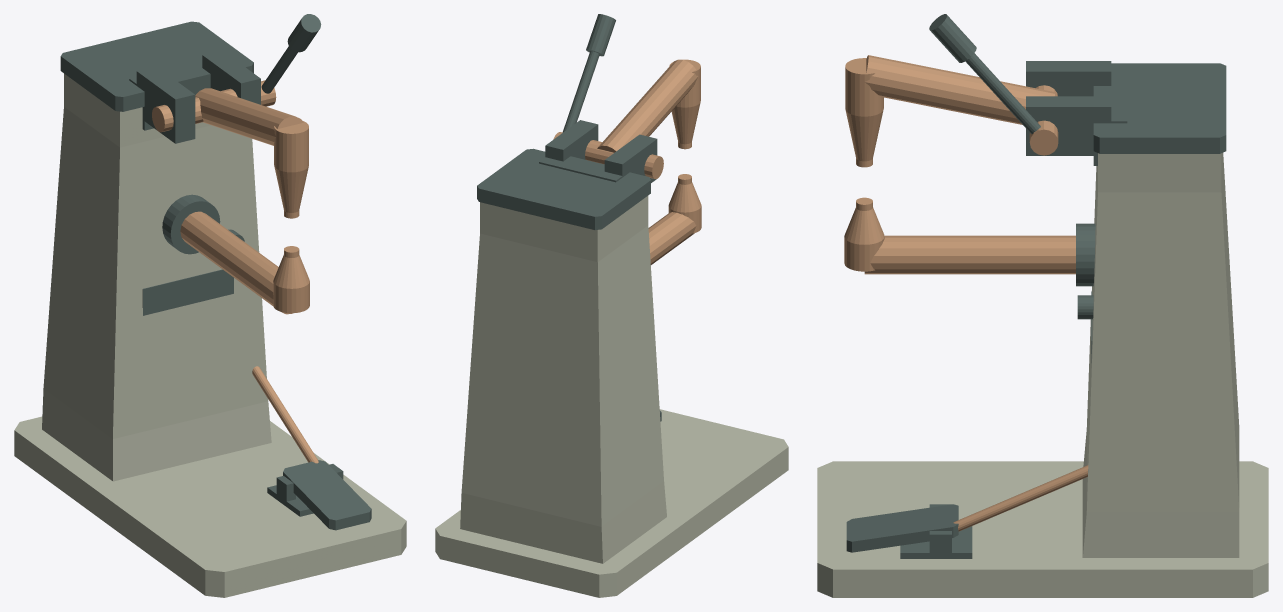
3 views of the same model, side by side, from view 1: azimuth 30°, elevation 25°; view 2: azimuth 150°, elevation 25°; view 3: azimuth 270°, elevation 25° (orthographic). The views are drawn at different scales.
Parts seen in each view (by area): view 1: WholeTaperedMachineCabinet, WholeBroadGroundFoot, WholeUpperCabinetCap, WholeUpperPivotFork, WholeLowerForwardReachArm, WholeFixedBroadFootPedal, WholeRaisedUpperReachArm, WholeUpperDownwardBluntContact, WholeBlankControlPanel, WholeLowerUpwardBluntContact, WholeLowerArmRootSocket, WholeAttachedPedalLink (+4 smaller); view 2: WholeTaperedMachineCabinet, WholeBroadGroundFoot, WholeUpperCabinetCap, WholeUpperPivotFork, WholeRaisedUpperReachArm, WholeLowerForwardReachArm, WholeUpperDownwardBluntContact, WholeLowerUpwardBluntContact, WholeSideOperatingLever, WholeUpperTransversePivot, WholeLeverGrip; view 3: WholeTaperedMachineCabinet, WholeBroadGroundFoot, WholeUpperCabinetCap, WholeLowerForwardReachArm, WholeUpperPivotFork, WholeRaisedUpperReachArm, WholeFixedBroadFootPedal, WholeUpperDownwardBluntContact, WholeLowerUpwardBluntContact, WholeGroundedPedalFork, WholeAttachedPedalLink, WholeSideOperatingLever (+3 smaller).
Boxes of the visible parts, x1,y1,x2,y2 form: WholeTaperedMachineCabinet: [42, 73, 271, 481]; WholeBroadGroundFoot: [14, 416, 406, 597]; WholeUpperCabinetCap: [60, 21, 253, 111]; WholeUpperPivotFork: [129, 50, 260, 143]; WholeLowerForwardReachArm: [180, 211, 292, 314]; WholeFixedBroadFootPedal: [283, 460, 371, 530]; WholeRaisedUpperReachArm: [195, 88, 303, 145]; WholeUpperDownwardBluntContact: [274, 121, 308, 218]; WholeBlankControlPanel: [142, 269, 233, 315]; WholeLowerUpwardBluntContact: [273, 246, 309, 313]; WholeLowerArmRootSocket: [162, 194, 220, 254]; WholeAttachedPedalLink: [252, 366, 318, 463]; WholeTaperedMachineCabinet: [460, 196, 666, 563]; WholeBroadGroundFoot: [435, 409, 788, 597]; WholeUpperCabinetCap: [477, 148, 650, 229]; WholeUpperPivotFork: [539, 120, 657, 182]; WholeRaisedUpperReachArm: [597, 59, 698, 152]; WholeLowerForwardReachArm: [648, 212, 696, 264]; WholeUpperDownwardBluntContact: [669, 59, 700, 149]; WholeLowerUpwardBluntContact: [668, 174, 701, 233]; WholeSideOperatingLever: [562, 51, 599, 132]; WholeUpperTransversePivot: [553, 132, 663, 179]; WholeLeverGrip: [586, 14, 615, 56]; WholeTaperedMachineCabinet: [1082, 153, 1239, 557]; WholeBroadGroundFoot: [817, 461, 1268, 597]; WholeUpperCabinetCap: [1093, 63, 1226, 153]; WholeLowerForwardReachArm: [864, 235, 1075, 274]; WholeUpperPivotFork: [1026, 61, 1127, 165]; WholeRaisedUpperReachArm: [865, 55, 1054, 124]; WholeFixedBroadFootPedal: [846, 504, 958, 552]; WholeUpperDownwardBluntContact: [845, 58, 883, 167]; WholeLowerUpwardBluntContact: [844, 197, 884, 271]; WholeGroundedPedalFork: [900, 504, 972, 558]; WholeAttachedPedalLink: [953, 465, 1088, 531]; WholeSideOperatingLever: [965, 53, 1040, 134].
Bounding box in the file's own units: 0.57 × 1.37 × 1.
